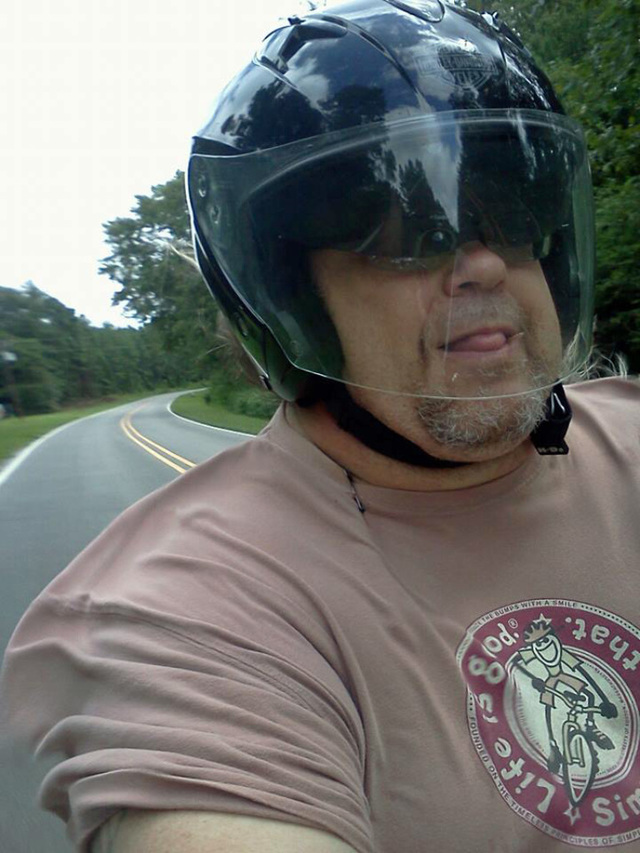helmet: (183, 9, 606, 421)
